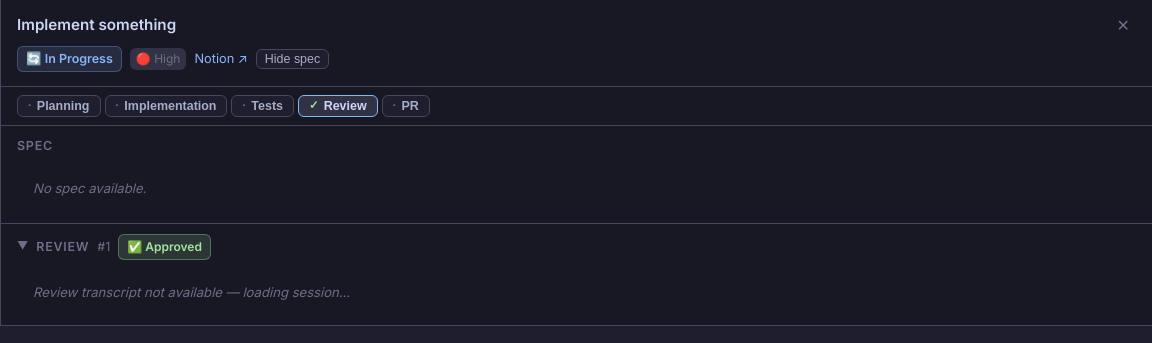
Test: TaskDetail › review section carries a data-expanded hook matching aria-expanded
Click the button "▼ Review #1 ✅ Approved".
click(63, 247)  # box [17,234,211,260]
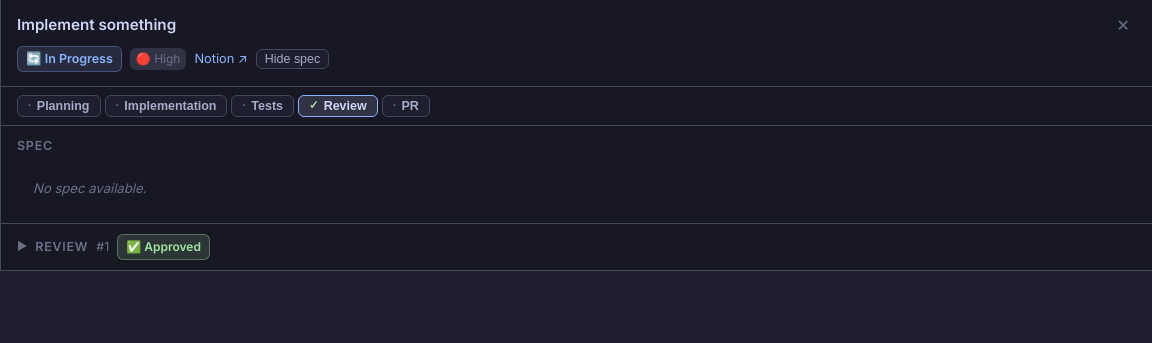
Expected: the button "▶ Review #1 ✅ Approved" is collapsed, [17,234,210,260]
